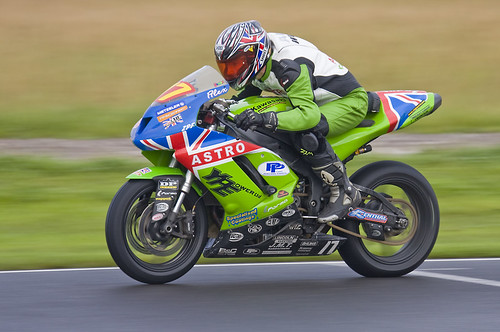helmet: (213, 18, 271, 73)
